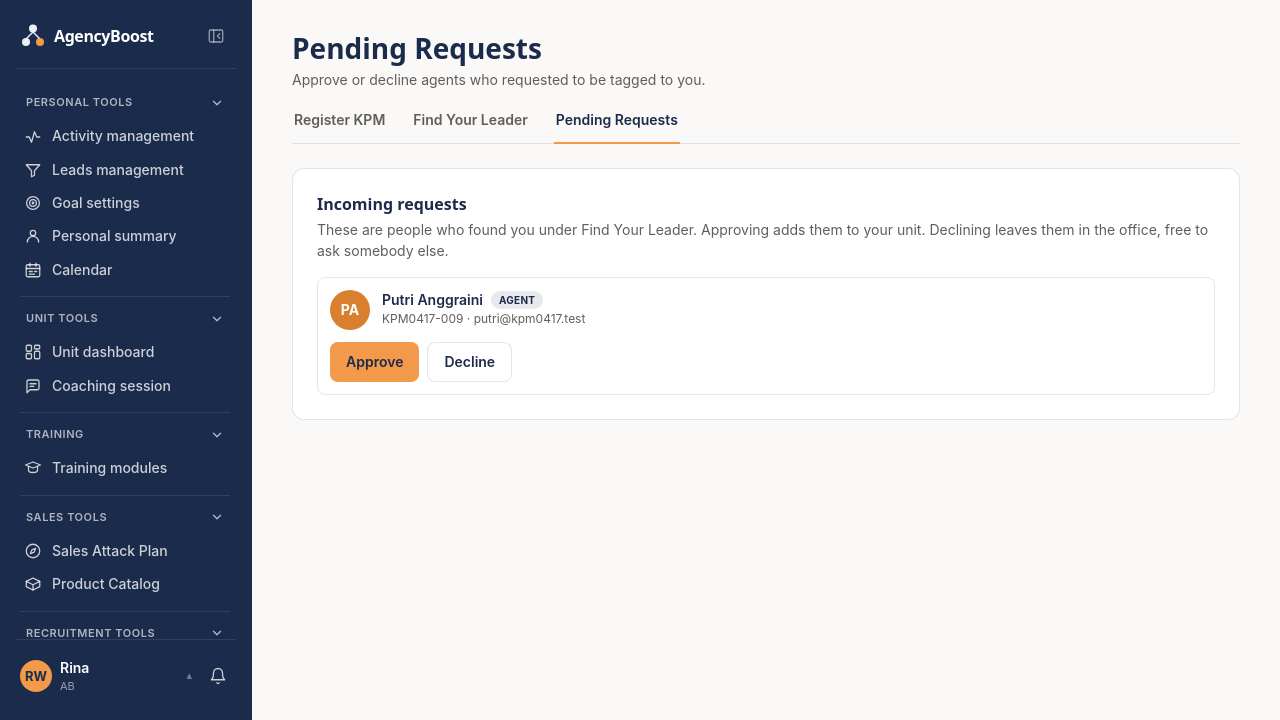
Test: the approval inbox (P3-T5) › takes the inbox the server returned, not its own guess at it
The width and height of the screenshot is (1280, 720).
Click the button "Approve" at (375, 362), box [330, 342, 419, 382]
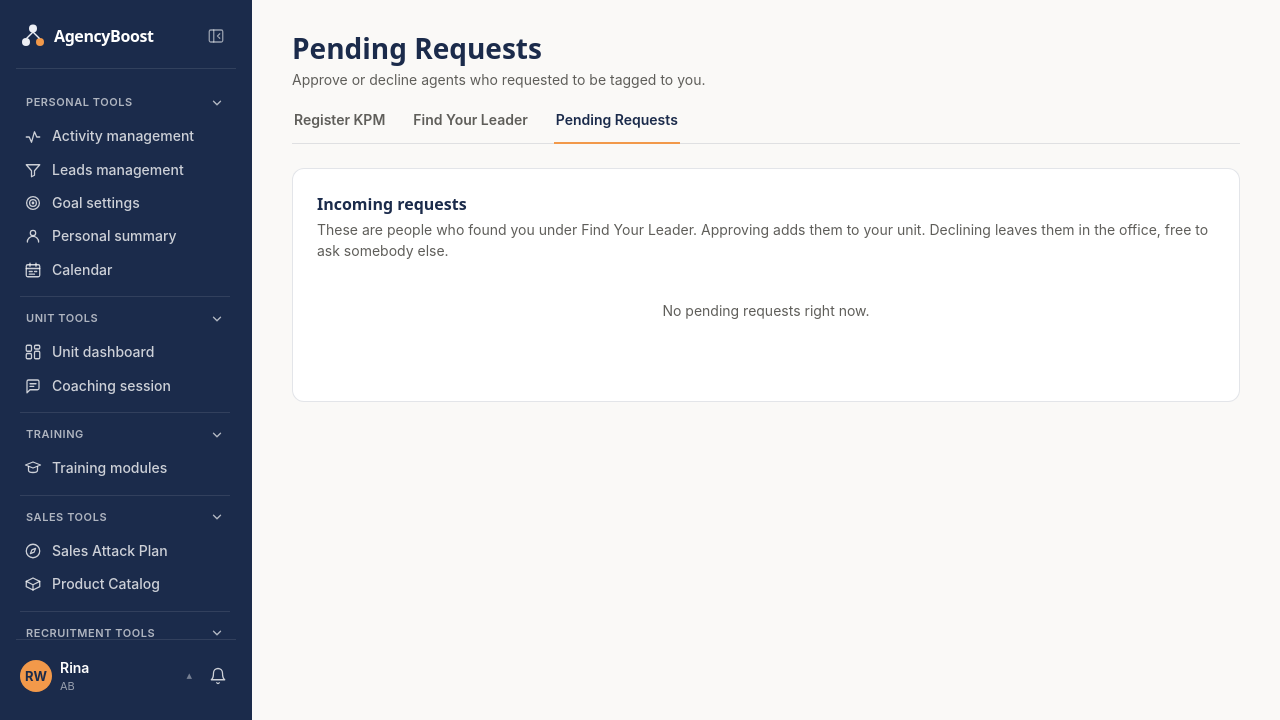
Result: the text "No pending requests right now." is shown at [662, 302, 870, 319]
